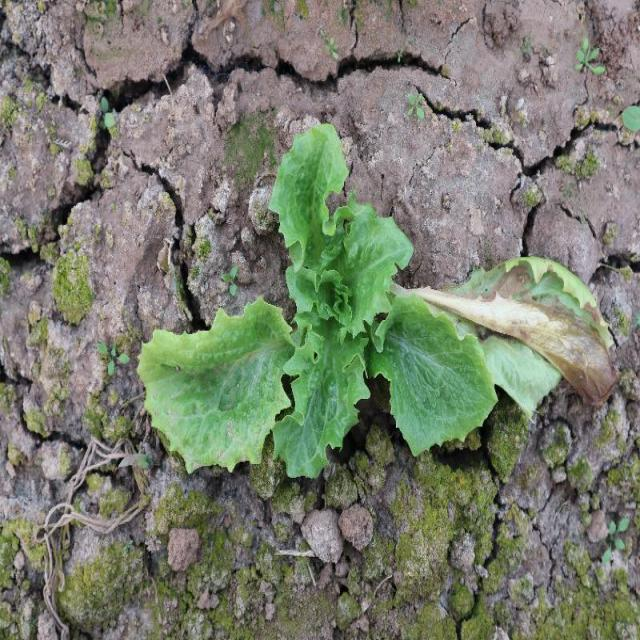crop: (135, 119, 560, 480)
